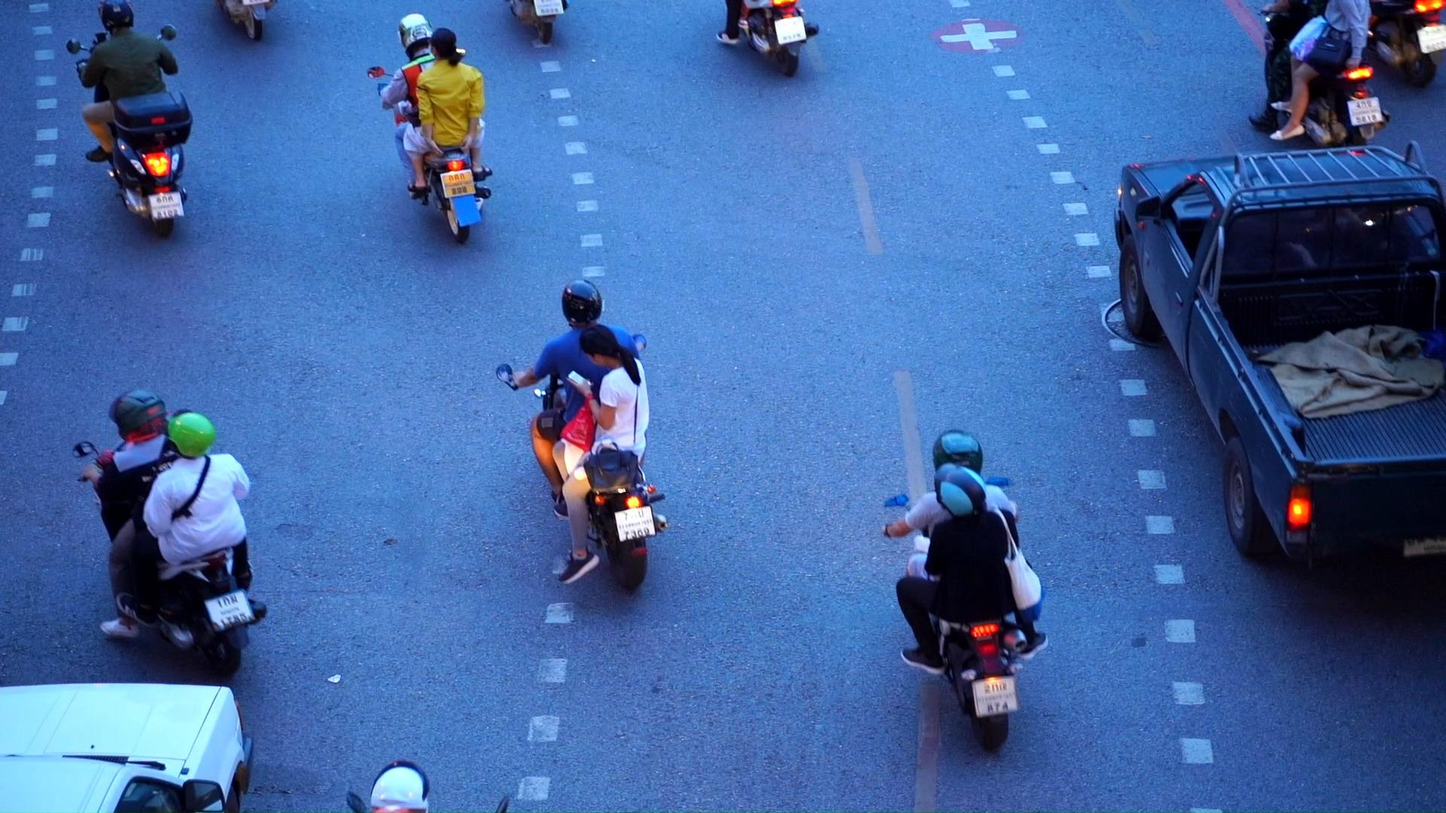driver: (72, 388, 269, 679), (878, 428, 1049, 751), (495, 279, 672, 590), (66, 0, 194, 239), (366, 13, 493, 243), (1247, 0, 1391, 147), (715, 0, 819, 78)
helmet: (369, 758, 431, 813), (107, 388, 167, 444), (935, 462, 986, 520), (163, 408, 216, 461), (933, 429, 983, 475), (561, 280, 602, 329), (397, 14, 434, 59), (97, 0, 134, 36)
no-helmet: (579, 324, 639, 371), (427, 28, 462, 67)
